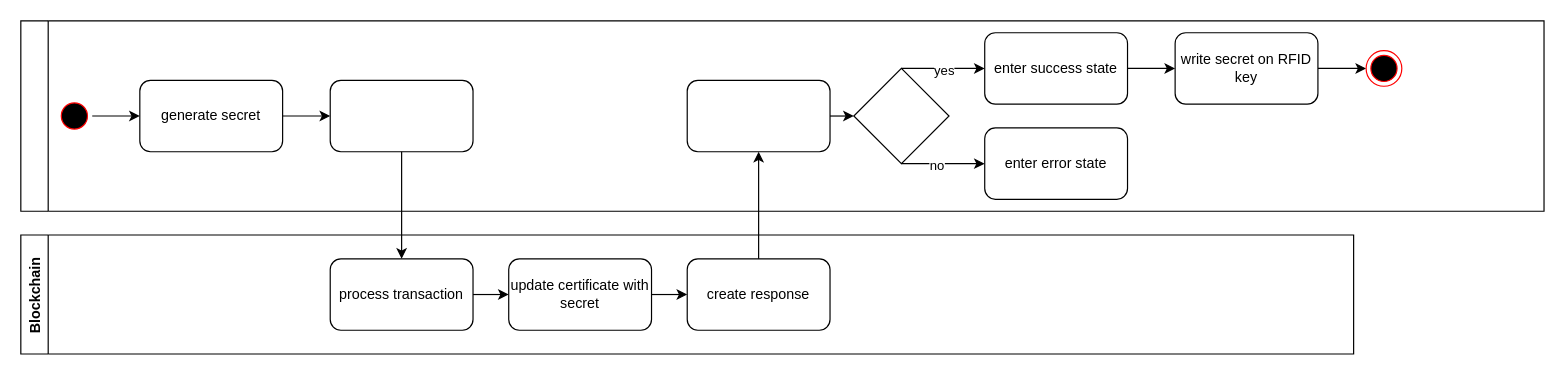
The diagram is 1565 pixels wide and 375 high, and some of its shapes have lost their labels. Each missing label, with the box of its shape:
evaluate response: (686, 79, 830, 152)
Inspector: (20, 20, 1544, 211)
invoke transaction: (329, 79, 473, 152)
response = success?: (853, 67, 949, 164)
